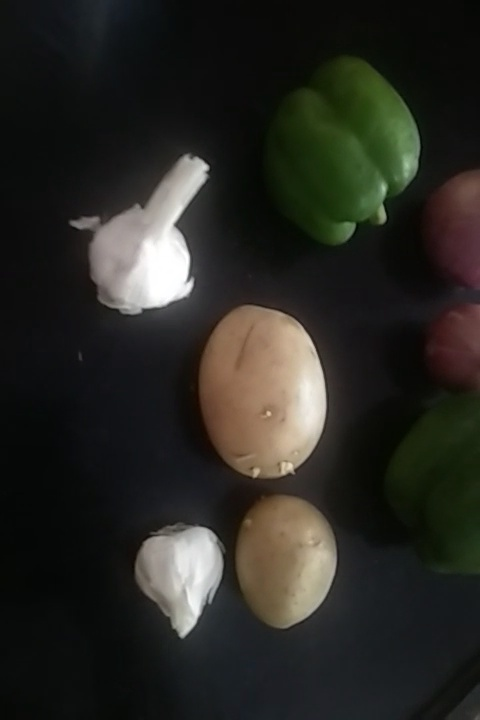capsicum: (253, 67, 410, 243), (391, 396, 480, 598)
garlic: (75, 148, 202, 313), (128, 521, 217, 627)
onion: (425, 153, 480, 289), (420, 303, 480, 394)
